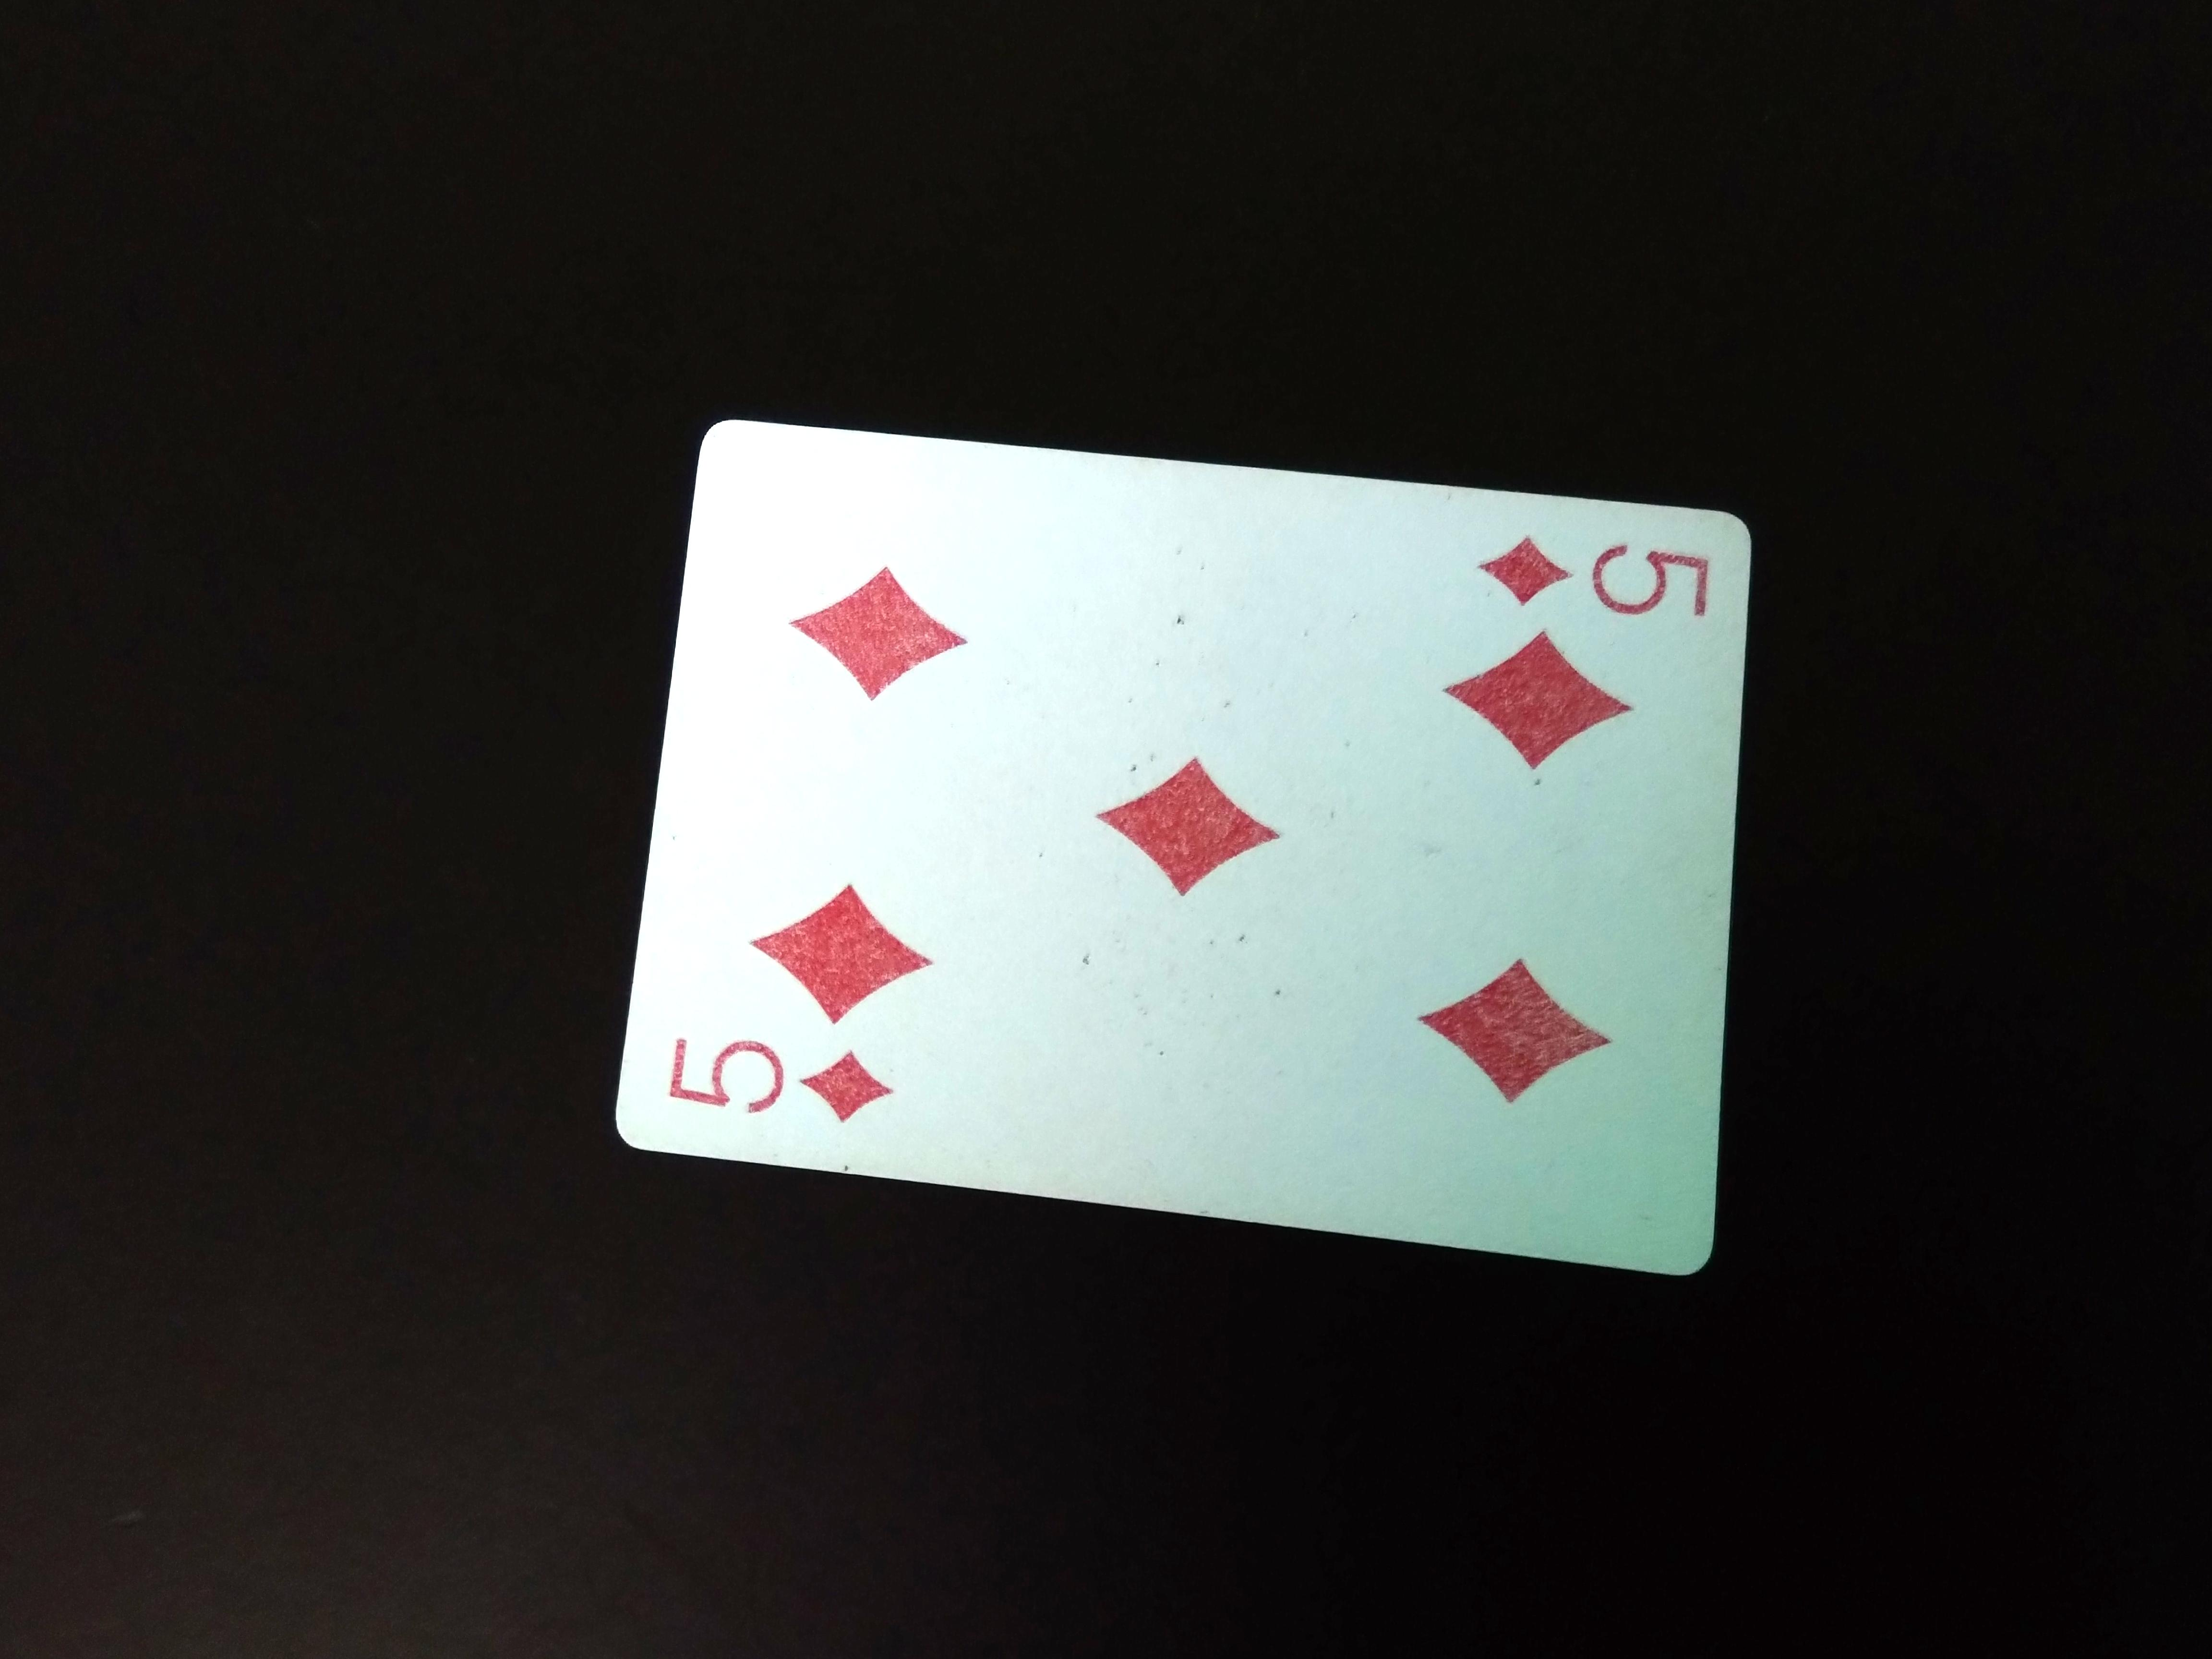5D: (651, 1025, 902, 1133)
